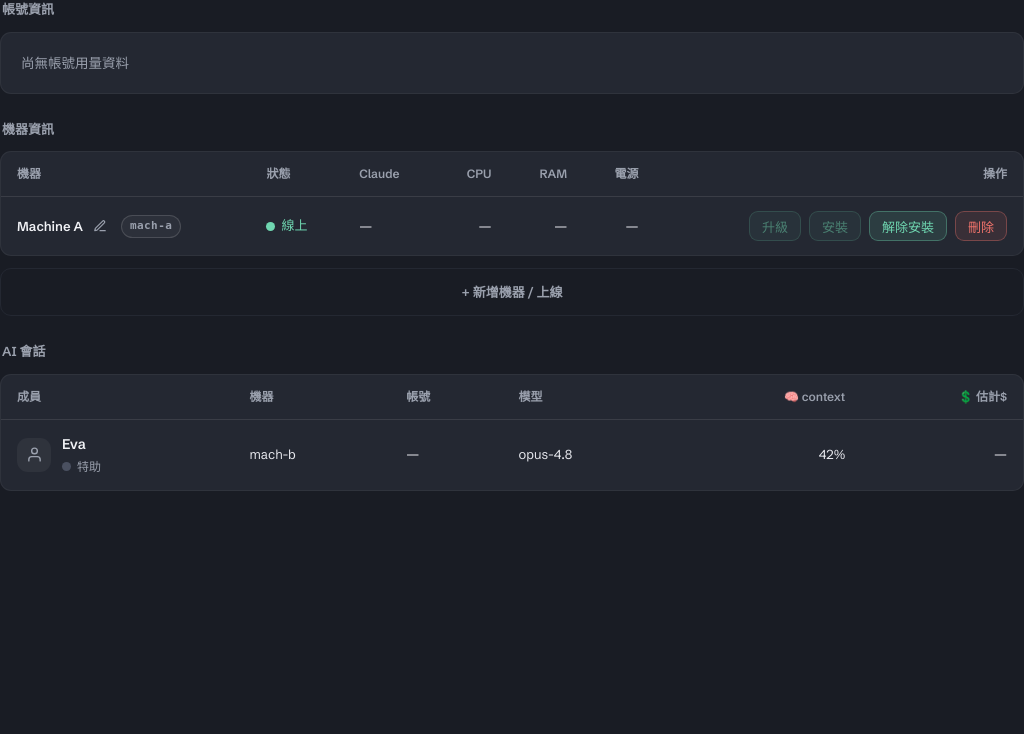
Scenario: Monitor entry · undispatched relocate (T-7fa1) › shows the relocate notice when relocation_pending comes back true
Step 1. Click the text "Eva" → (74, 444), box [62, 435, 86, 453]
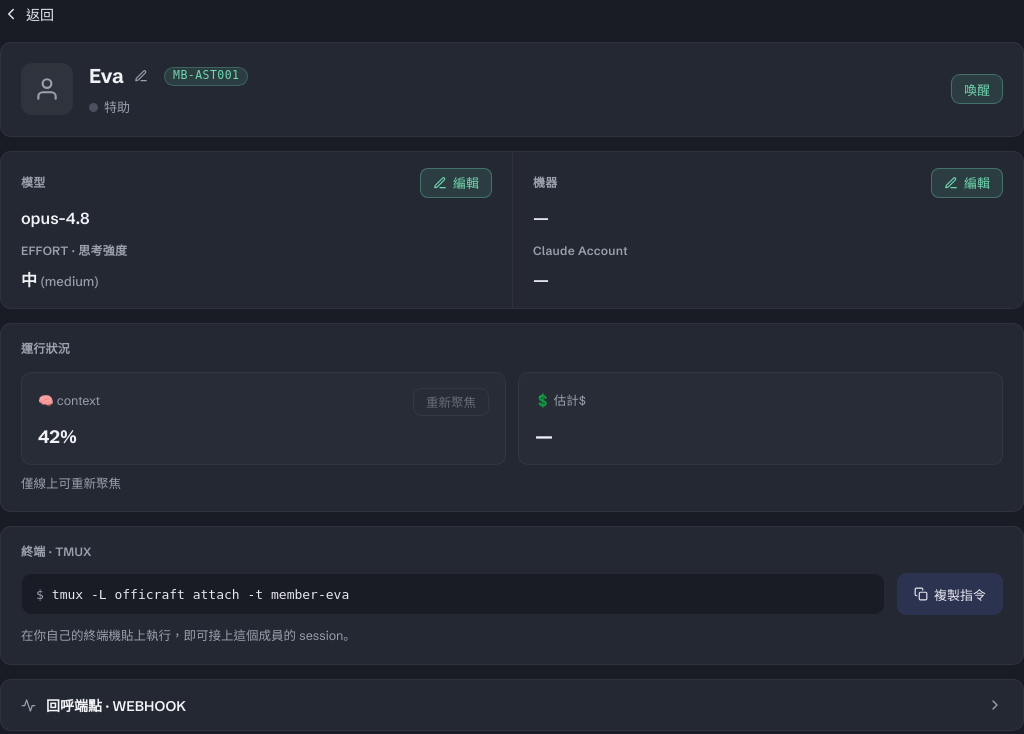
Result: the button with test id "mp-relocate" is enabled
Step 2. Click the button with test id "mp-relocate" → (967, 182), box [931, 168, 1003, 198]
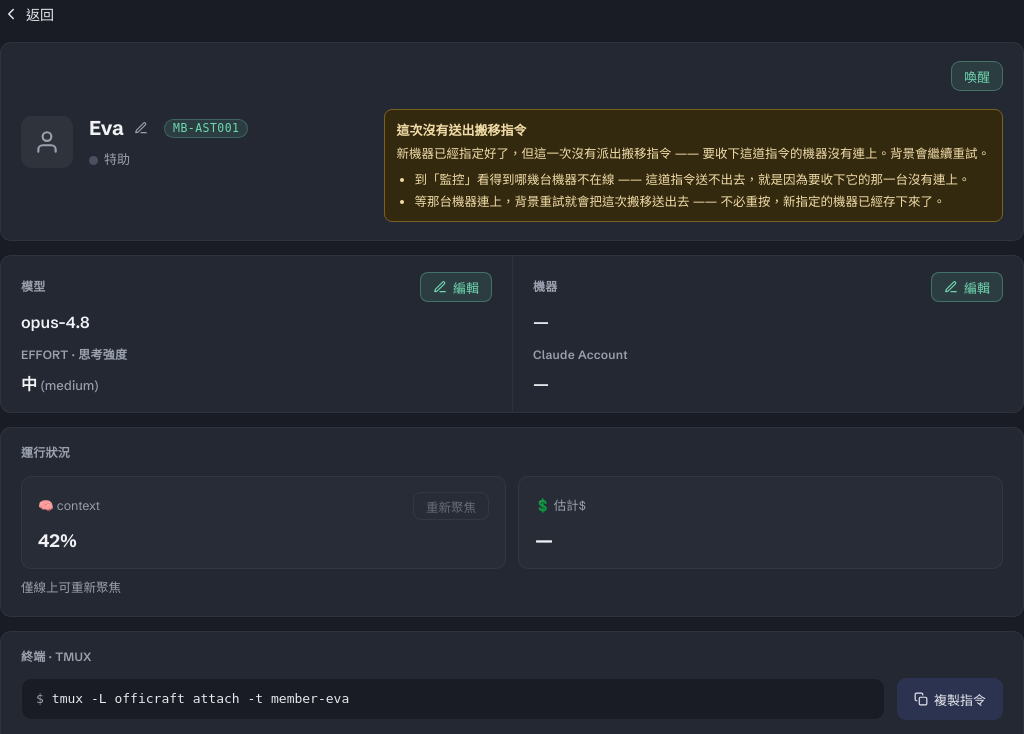
Result: the message with test id "mp-relocate-undispatched" is shown at [384, 109, 1003, 222]
